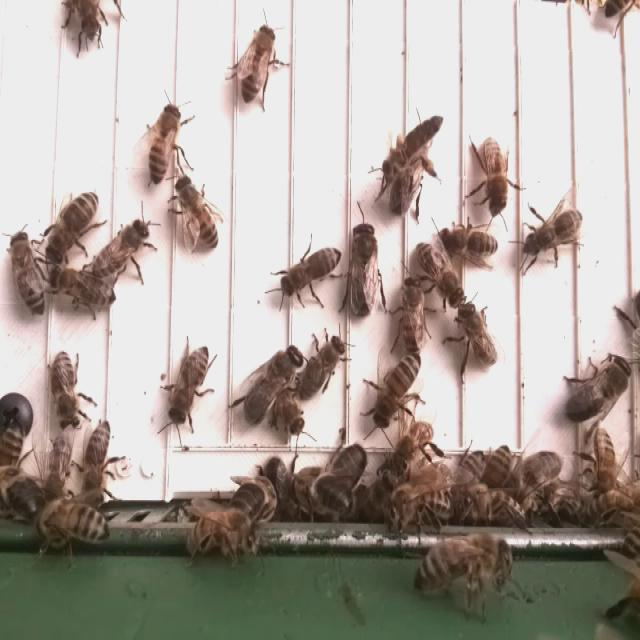Drone: (241, 340, 304, 429), (566, 351, 636, 427), (275, 463, 355, 523), (346, 219, 380, 321)
Worker: (44, 186, 101, 266), (370, 350, 423, 428), (277, 242, 344, 303), (165, 340, 212, 425), (516, 206, 586, 262), (92, 216, 150, 279), (175, 173, 220, 252), (35, 499, 111, 545), (296, 334, 346, 402), (9, 232, 48, 319), (415, 238, 464, 307), (455, 299, 500, 371), (239, 22, 277, 106), (79, 415, 114, 504), (146, 100, 181, 187), (44, 268, 118, 309), (47, 349, 82, 431), (478, 134, 510, 218), (435, 222, 501, 260), (397, 271, 426, 357), (587, 422, 620, 497)
